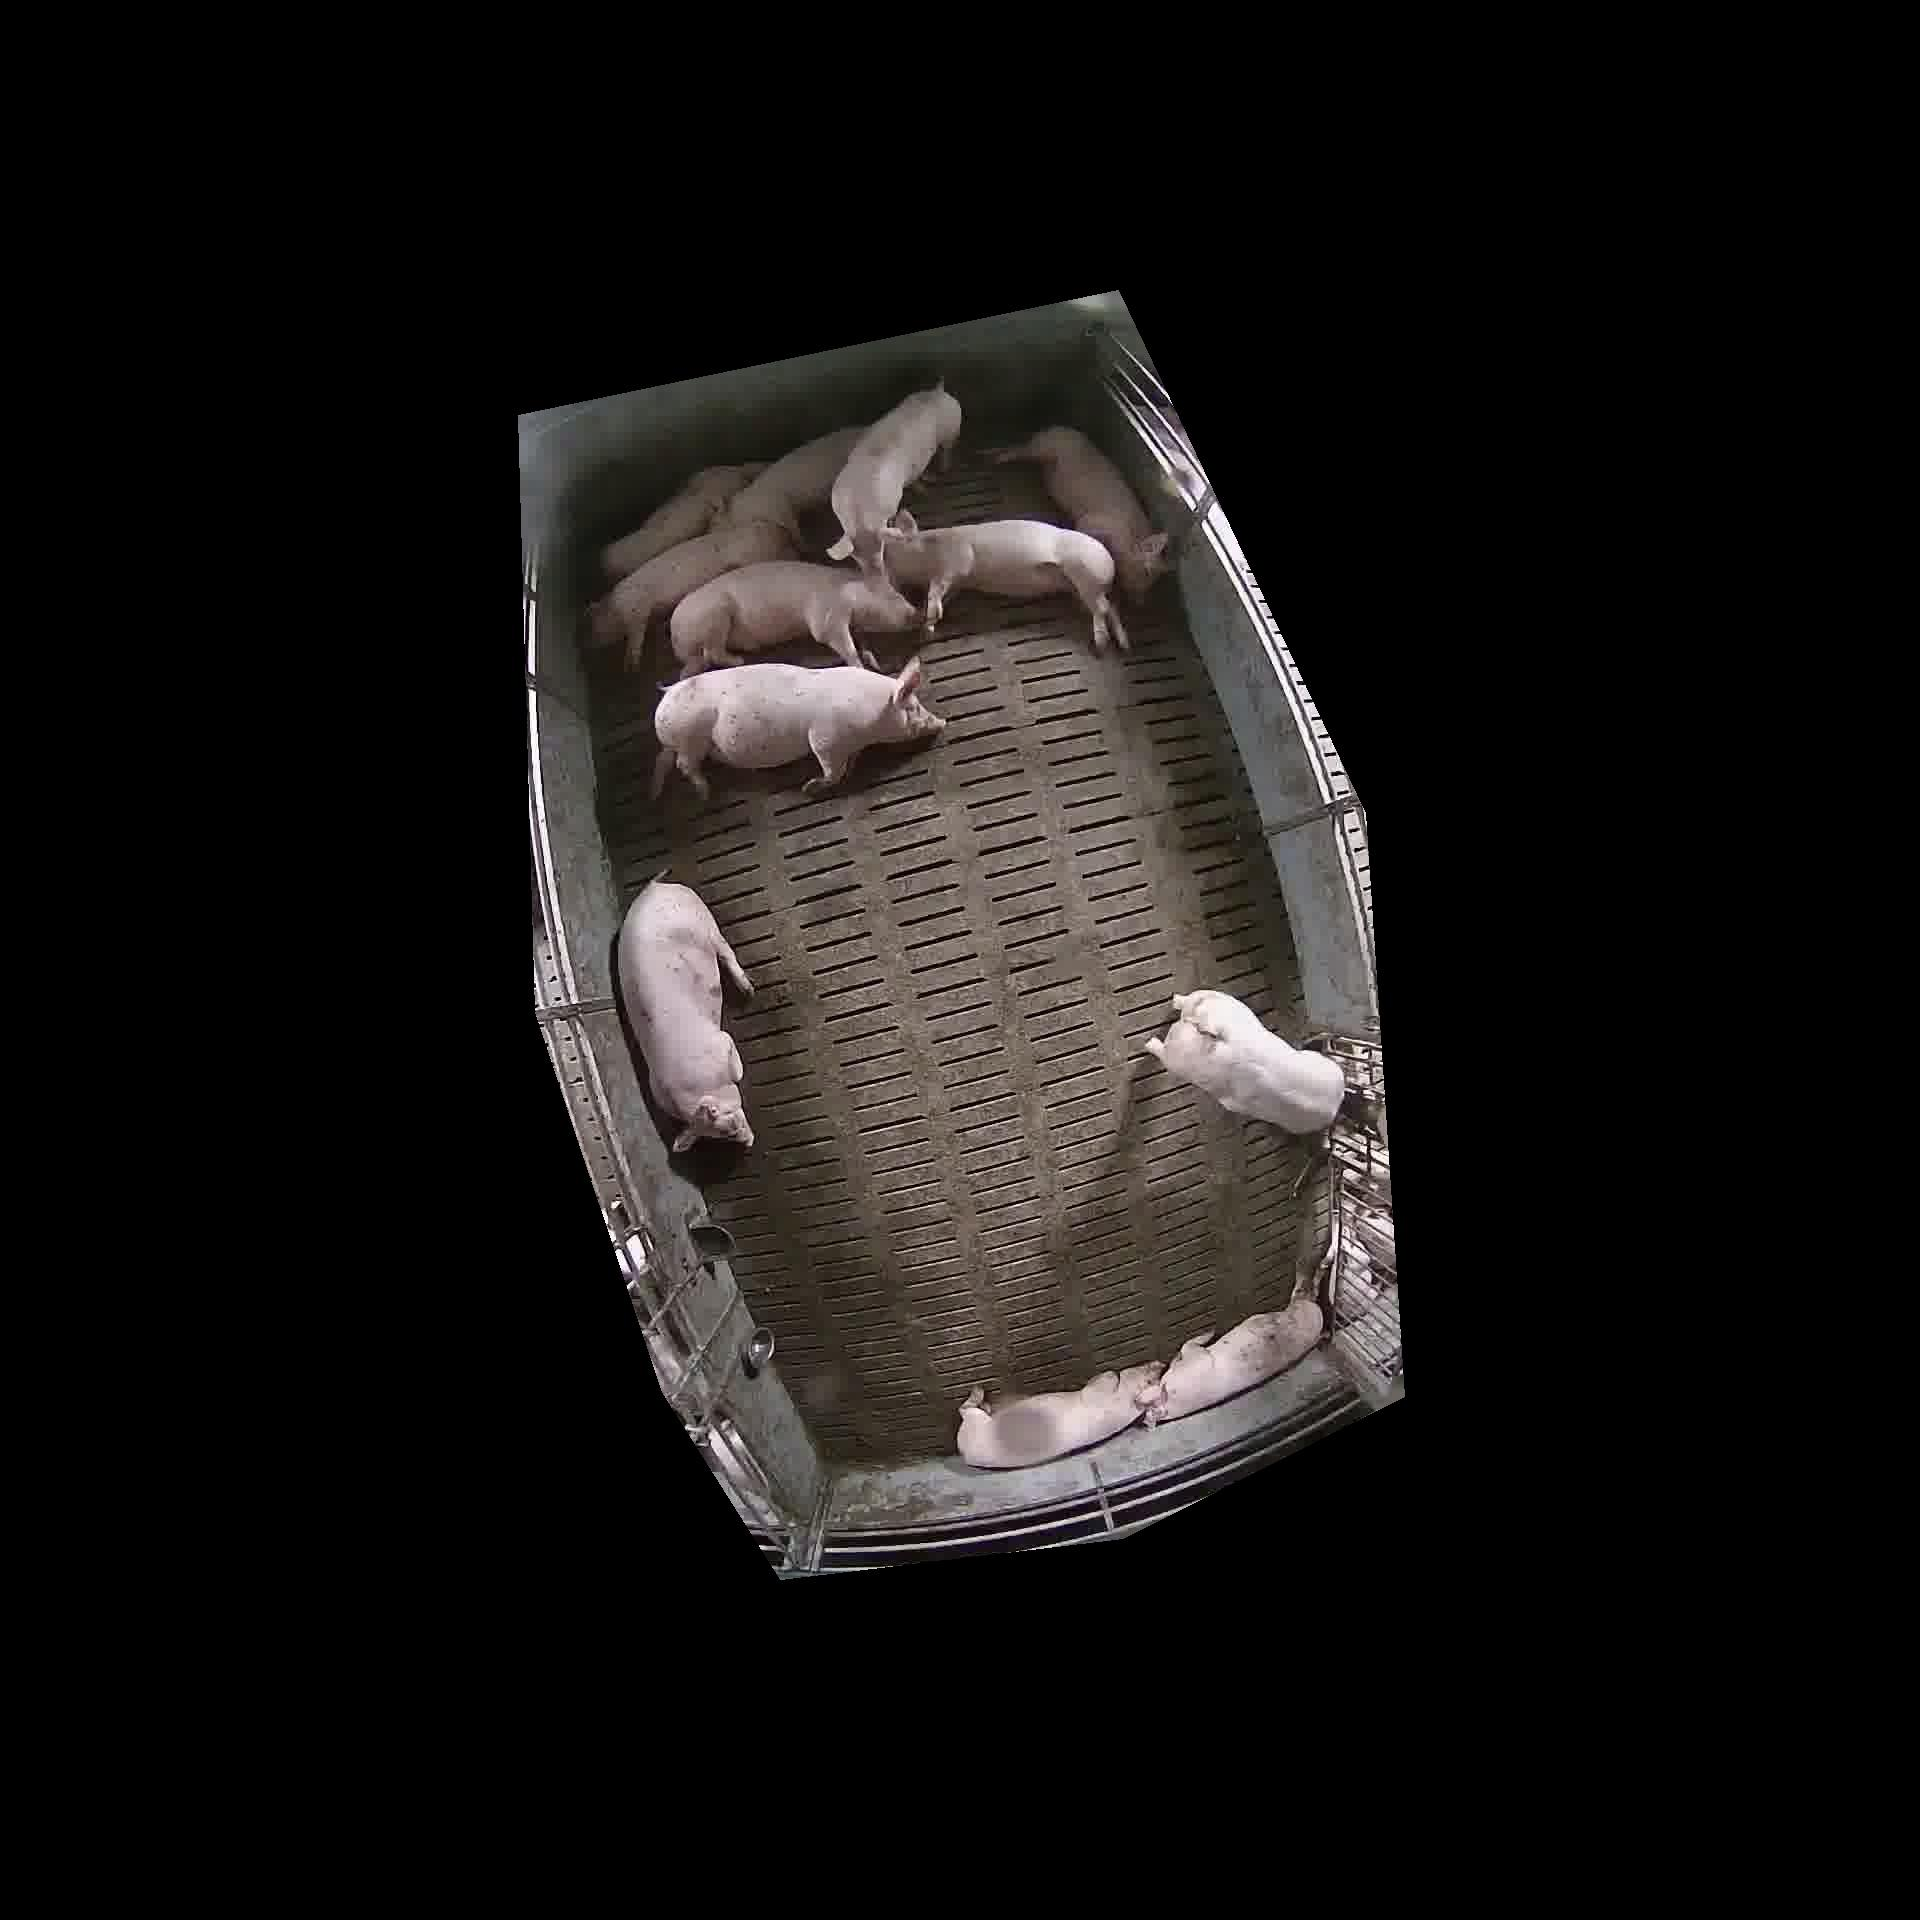pig: (652, 659, 944, 796), (617, 877, 753, 1152), (884, 512, 1129, 651), (988, 425, 1167, 603), (589, 520, 796, 668), (670, 561, 921, 675), (1146, 990, 1343, 1132), (828, 383, 962, 578), (1139, 1298, 1322, 1422), (956, 1363, 1162, 1466), (601, 462, 763, 580), (724, 427, 863, 540)
